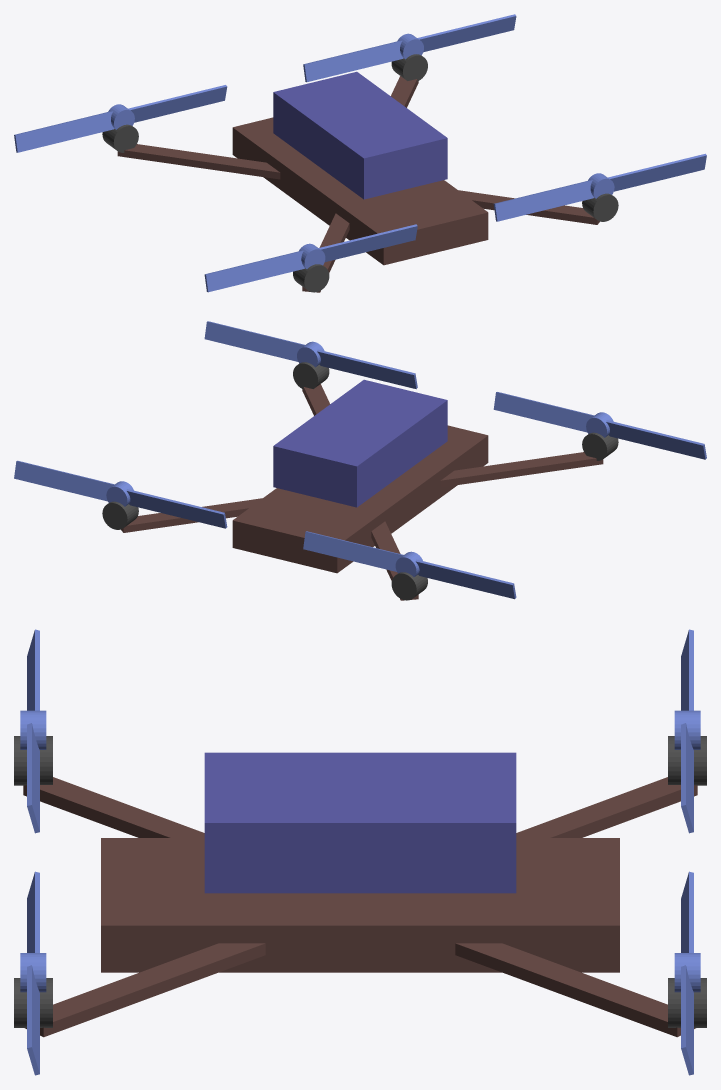
The model's file is Super 70.glb.
3 views of the same model, one above another, from view 1: azimuth 30°, elevation 25°; view 2: azimuth 150°, elevation 25°; view 3: azimuth 270°, elevation 25° (orthographic). The views are drawn at different scales.
Visible parts, largest first — view 1: battery, frame_body, prop_1, prop_2, prop_3, prop_0, arm_3, arm_0, motor_0, motor_2, motor_3, motor_1 (+2 smaller); view 2: battery, frame_body, prop_0, prop_3, prop_1, prop_2, arm_2, arm_1, motor_1, motor_3, motor_0, motor_2 (+2 smaller); view 3: frame_body, battery, arm_0, arm_1, arm_2, arm_3, prop_0, prop_2, prop_1, prop_3, motor_0, motor_1 (+2 smaller).
Boxes of the visible parts, x1,y1,x2,y2 form: battery: [273, 71, 447, 199]; frame_body: [232, 117, 488, 265]; prop_1: [303, 14, 516, 82]; prop_2: [204, 224, 417, 292]; prop_3: [14, 85, 227, 152]; prop_0: [493, 153, 706, 221]; arm_3: [117, 144, 280, 179]; arm_0: [458, 190, 599, 224]; motor_0: [582, 193, 618, 221]; motor_2: [293, 264, 329, 292]; motor_3: [102, 124, 138, 152]; motor_1: [391, 54, 427, 81]; battery: [273, 379, 447, 507]; frame_body: [232, 425, 488, 573]; prop_0: [204, 321, 417, 389]; prop_3: [303, 531, 516, 599]; prop_1: [14, 460, 227, 528]; prop_2: [493, 392, 706, 459]; arm_2: [440, 452, 603, 487]; arm_1: [121, 498, 262, 532]; motor_1: [102, 501, 138, 529]; motor_3: [391, 572, 427, 600]; motor_0: [293, 362, 329, 389]; motor_2: [582, 432, 618, 460]; frame_body: [101, 838, 619, 972]; battery: [204, 752, 516, 893]; arm_0: [25, 943, 265, 1037]; arm_1: [455, 943, 695, 1037]; arm_2: [23, 777, 204, 837]; arm_3: [516, 777, 697, 837]; prop_0: [20, 871, 46, 1075]; prop_2: [20, 629, 46, 833]; prop_1: [674, 871, 700, 1075]; prop_3: [674, 629, 700, 833]; motor_0: [14, 978, 52, 1027]; motor_1: [668, 978, 706, 1027].
Size of the model in its own units: 0.3808 by 0.06 by 0.267.
